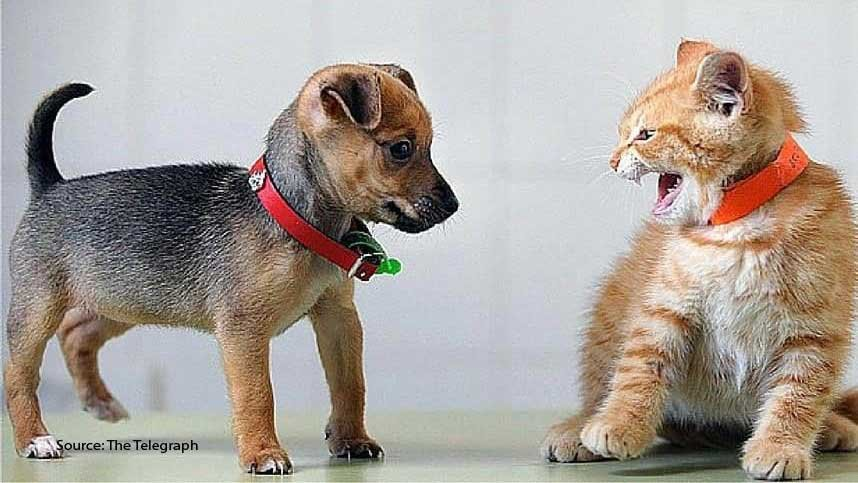cat: (561, 26, 841, 483)
dog: (11, 60, 472, 460)
